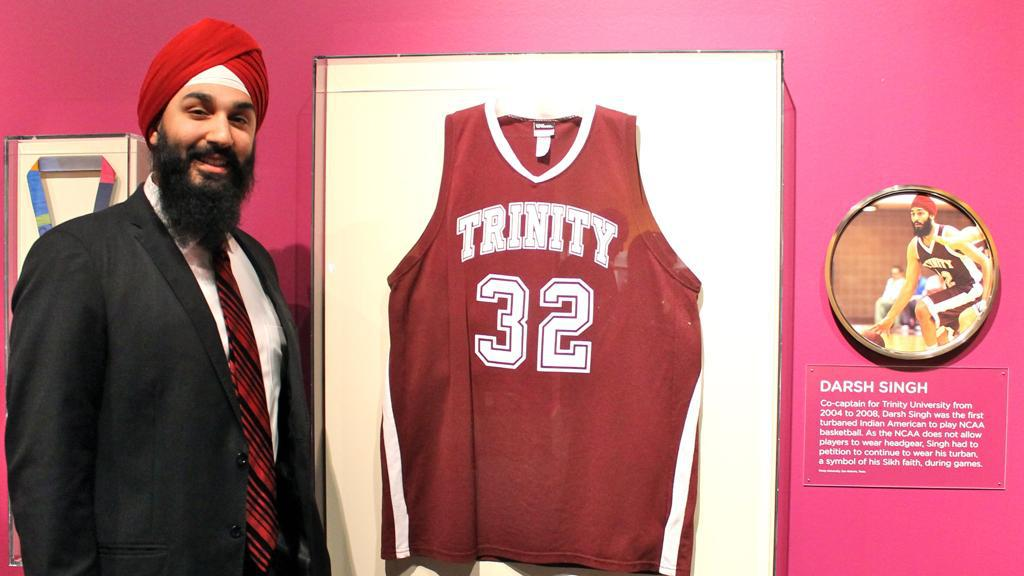face: (157, 55, 263, 191)
